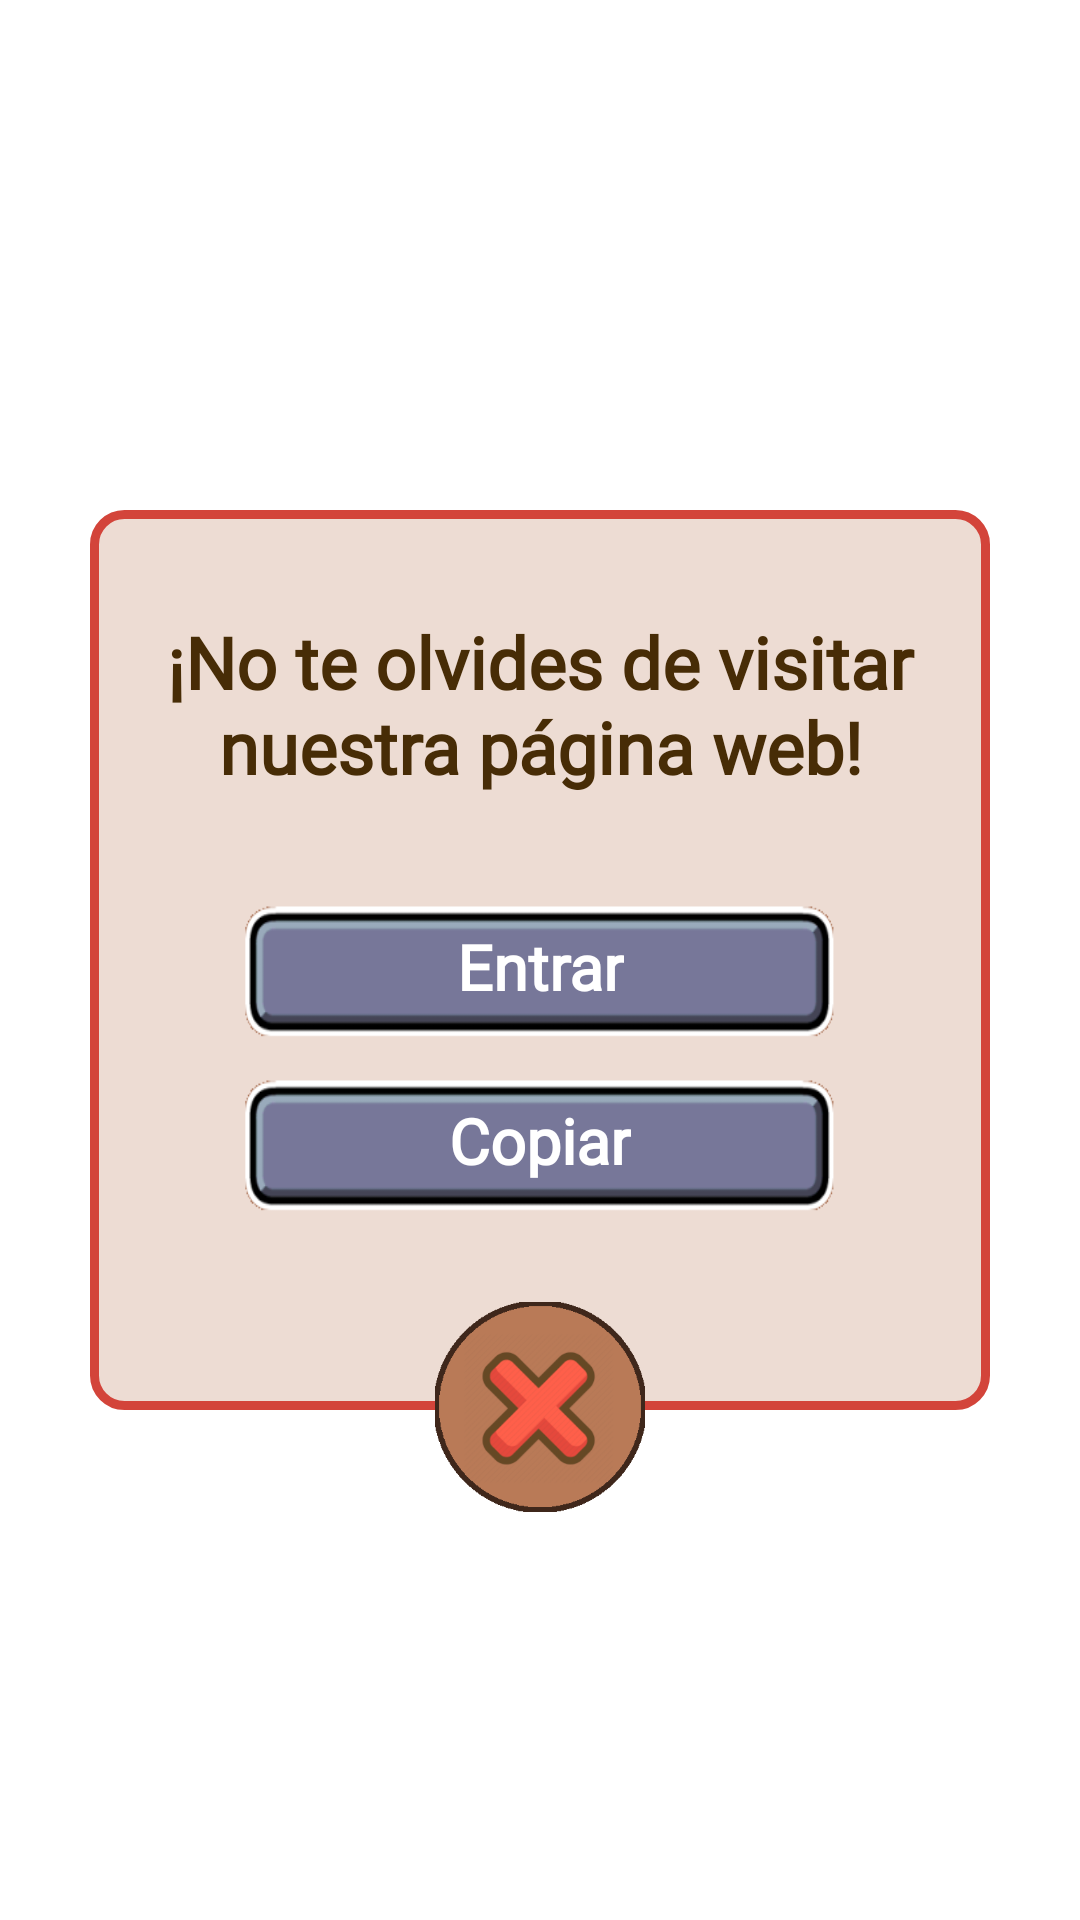

Named icons in this screenshot (1080x1920) and their centers, (x,y):
cerrar: (540,1407)
